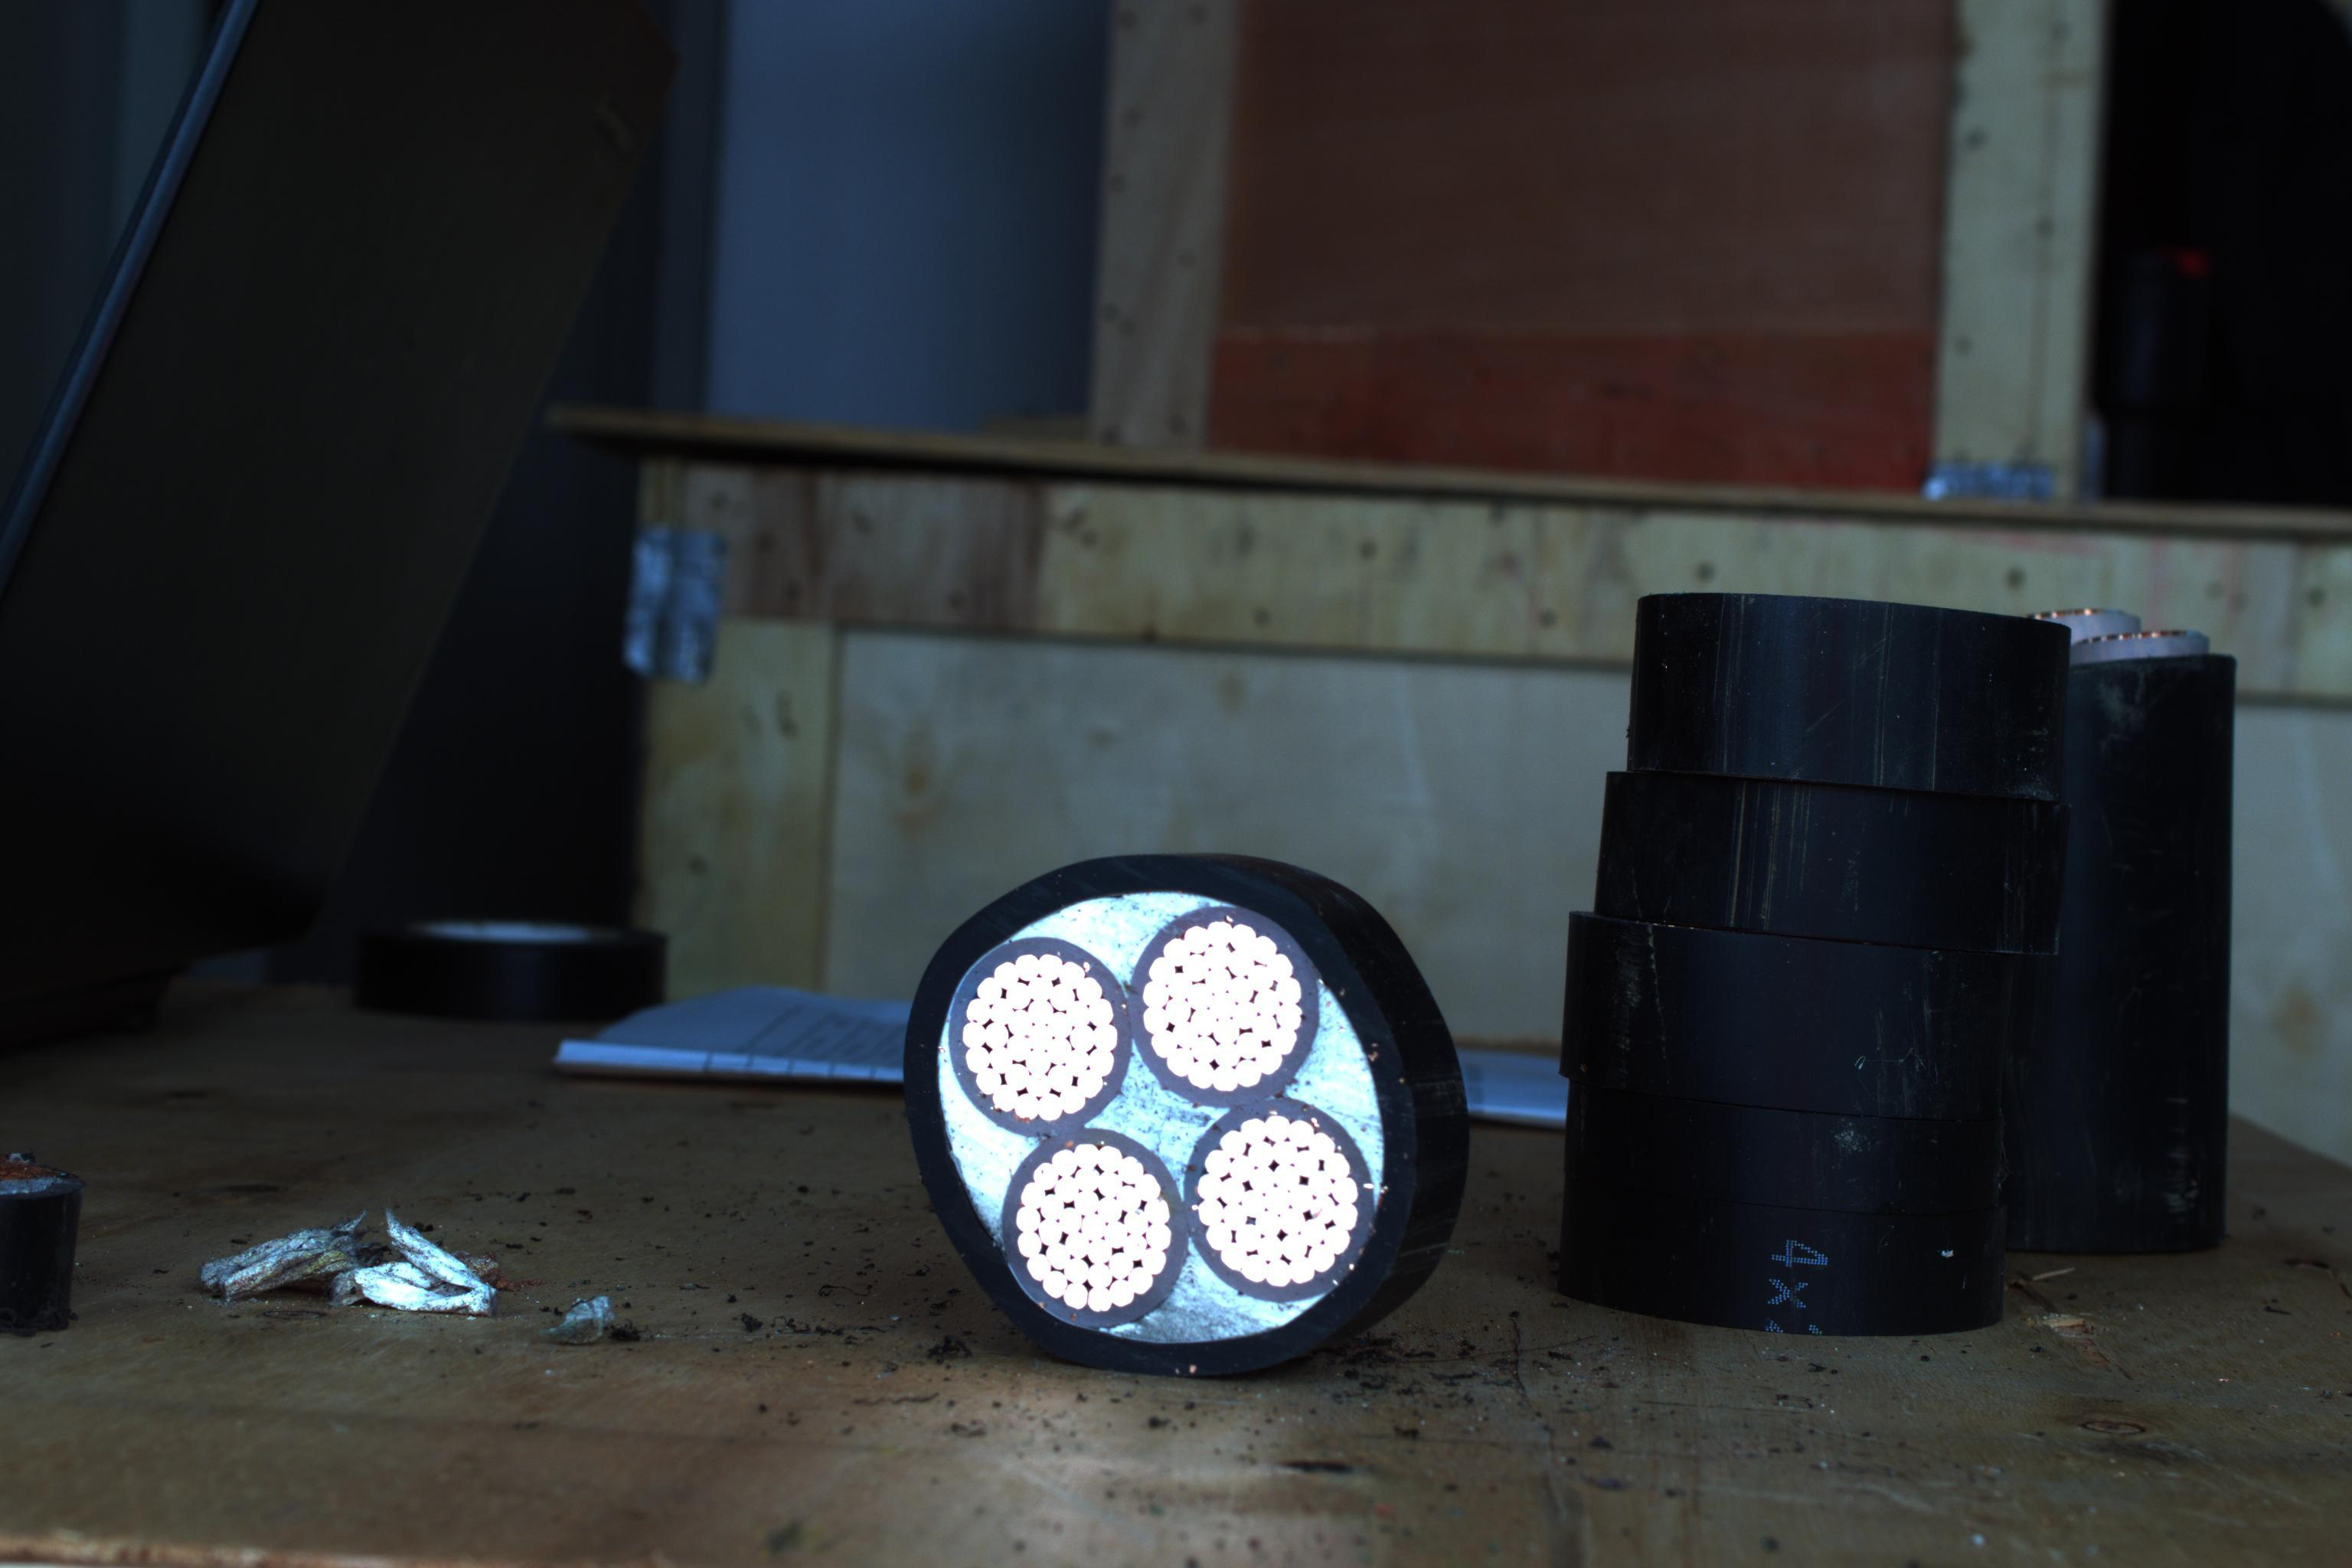YJV_0.6_1kV_4x240: (894, 864, 1416, 1384)
